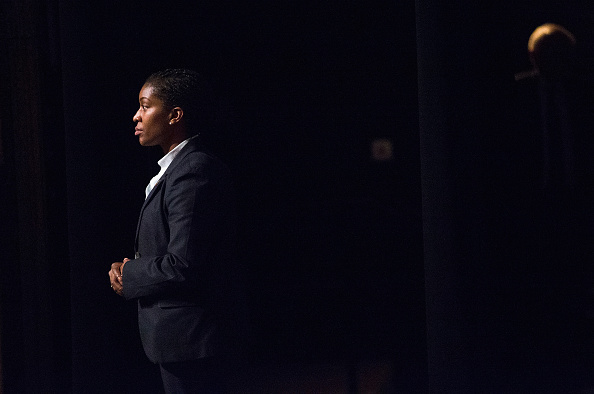em pe: (82, 52, 284, 394)
